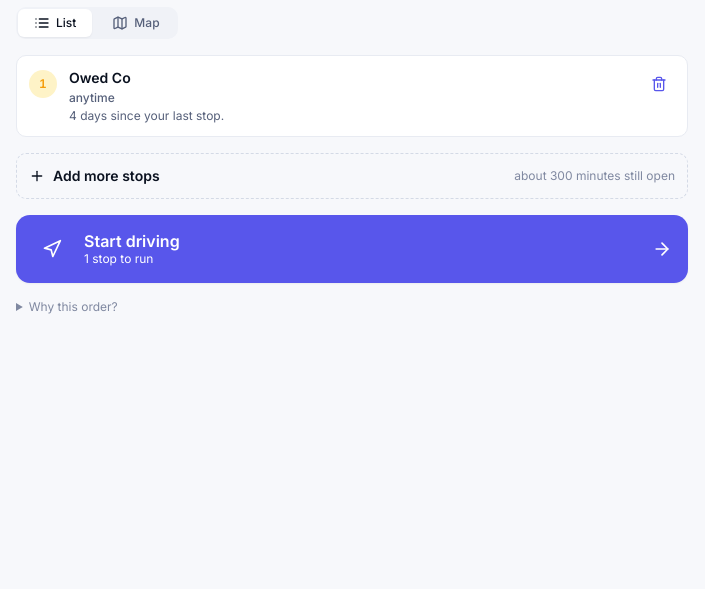
Test case: TodaysPathView › one-tap 'Add more stops' (v2.2 B 4.4 fill to capacity) › Undo on the fill notice reverses the whole batch and restores the budget/pool so it can re-fill
// A tap folds both candidates in.
What coordinates should you click on to do the following:
click the button "Add more stops about 300 minutes still open"
I would click on:
 (106, 176)
Its box is [16,153,688,199].
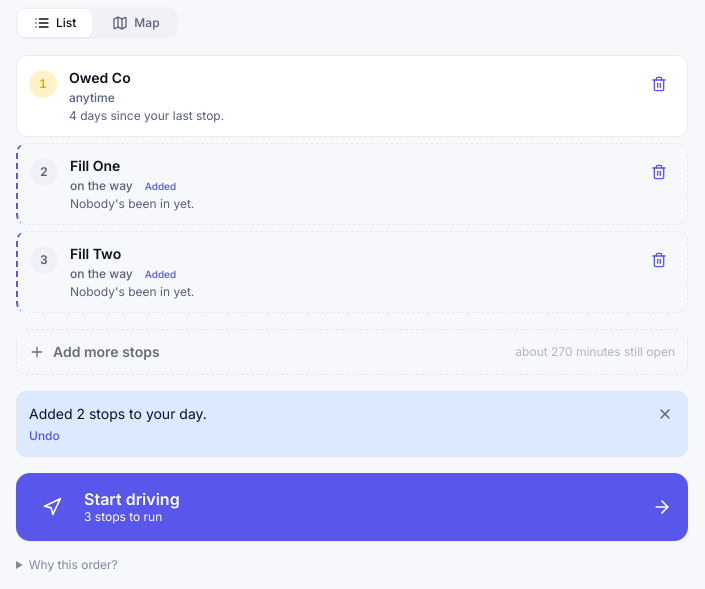
expect the text "Added 2 stops to your day." is shown: met, box [29,405,207,422]
What coordinates should you click on to do the following:
click the button "Undo"
I would click on:
 (44, 436)
Its box is [29,428,60,444].
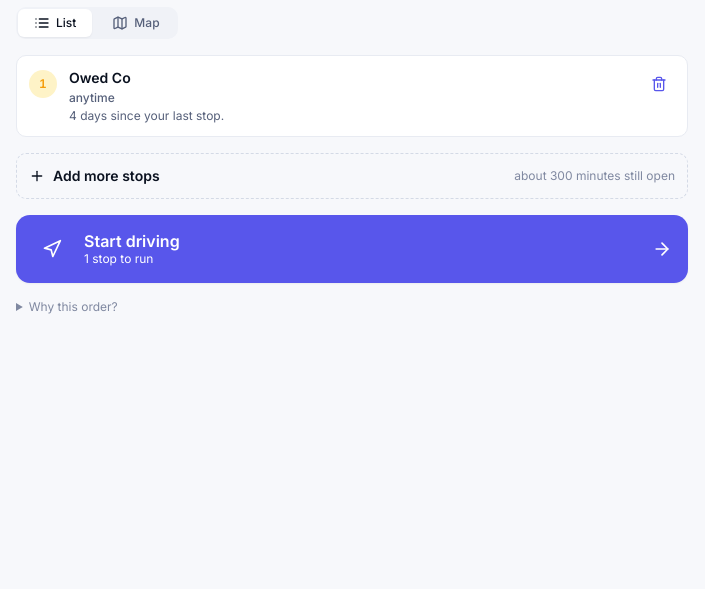
expect the text "Owed Co" is shown: met, box [69,68,131,88]
expect the text "to your day." is gone: met
// Budget + pool are restored: a fresh tap re-adds the same candidates.
What coordinates should you click on to do the following:
click the button "Add more stops about 300 minutes still open"
I would click on:
 (106, 176)
Its box is [16,153,688,199].
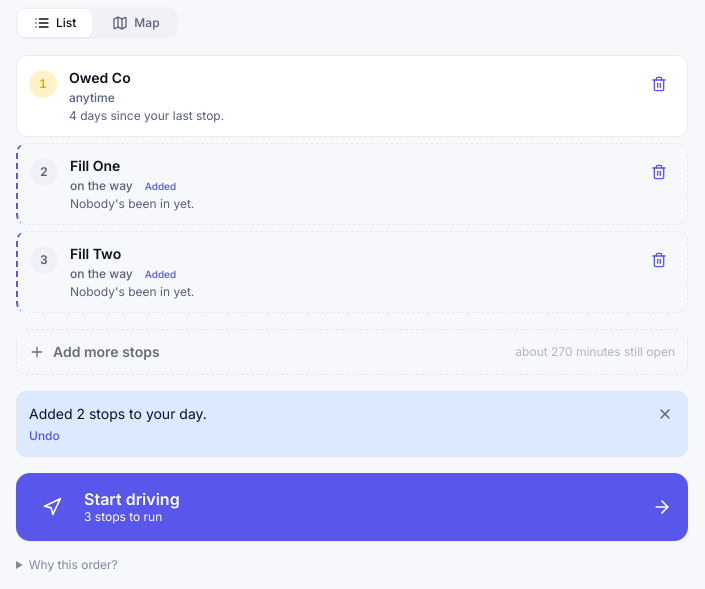
expect the text "Added 2 stops to your day." is shown: met, box [29,405,207,422]
